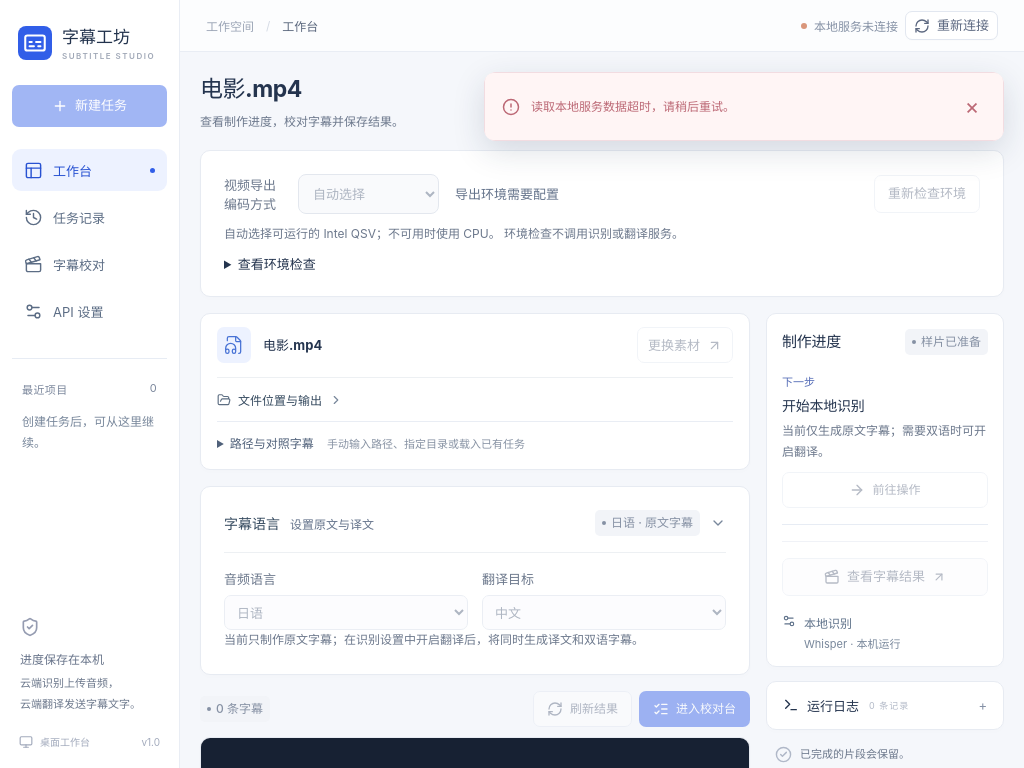
Test: 桌面工作台的真实操作边界 › offers reconnect after a hanging background state read and resumes polling after retry
Check: the message "读取本地服务数据超时，请稍后重试。 ×" is shown, box [484,72,1004,141]
Click the button "重新连接": (952, 26) [905,11,998,40]
Wait 4500 ms
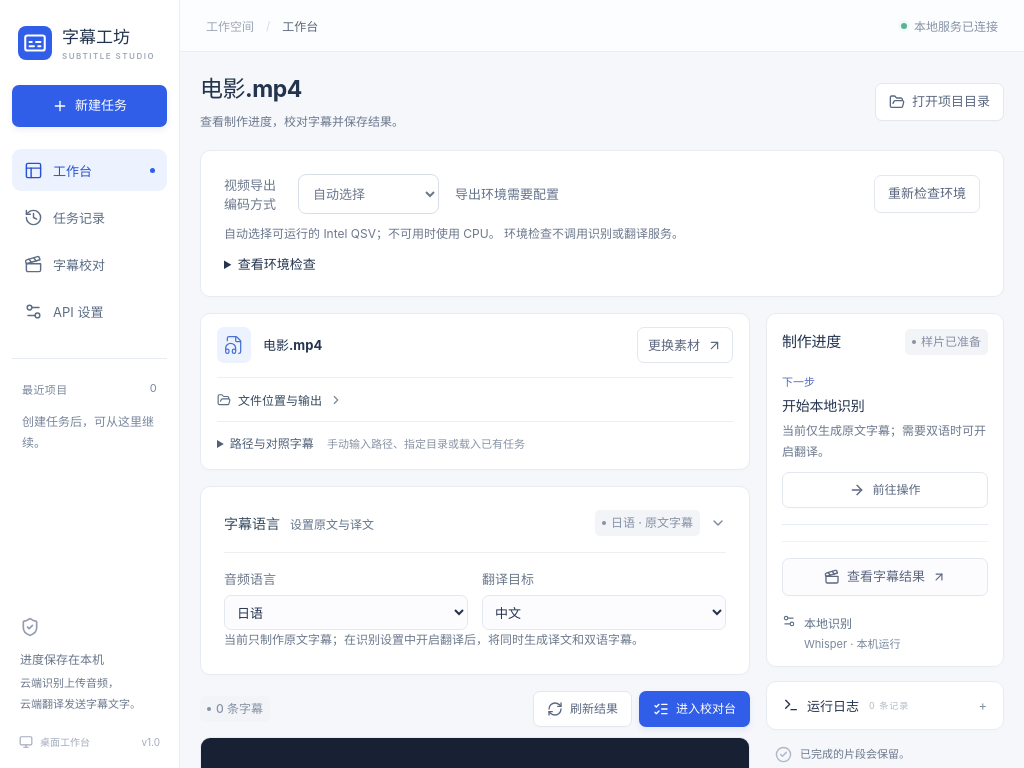
Check: the text "本地服务已连接" is shown, box [901,17,998,34]
Check: the button "新建任务" is enabled, box [12,85,167,127]
